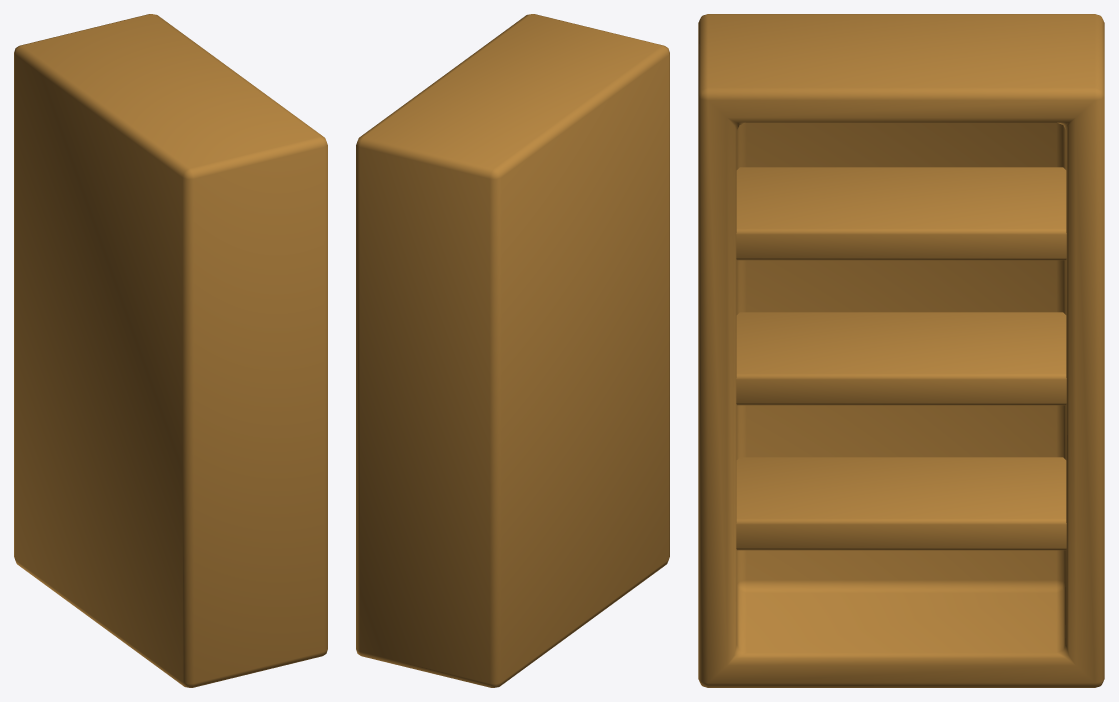
The model's file is Bookcase1.fbx.
The picture shows the model from 3 angles, left to right: view 1: azimuth 30°, elevation 25°; view 2: azimuth 150°, elevation 25°; view 3: azimuth 270°, elevation 25°; orthographic projection. The views are drawn at different scales.
Parts seen in each view (by area): view 1: Bookcase1; view 2: Bookcase1; view 3: Bookcase1.
Boxes of the visible parts, x1,y1,x2,y2 form: Bookcase1: (14, 14, 327, 687); Bookcase1: (356, 14, 669, 687); Bookcase1: (698, 14, 1104, 687).
Bounding box in the file's own units: 0.5784 × 1.22 × 1.99.
